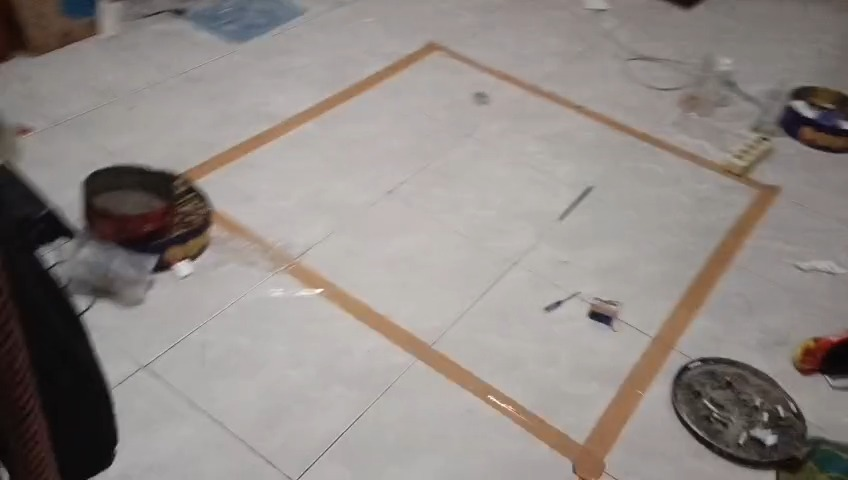floor marking: (183, 43, 780, 479)
